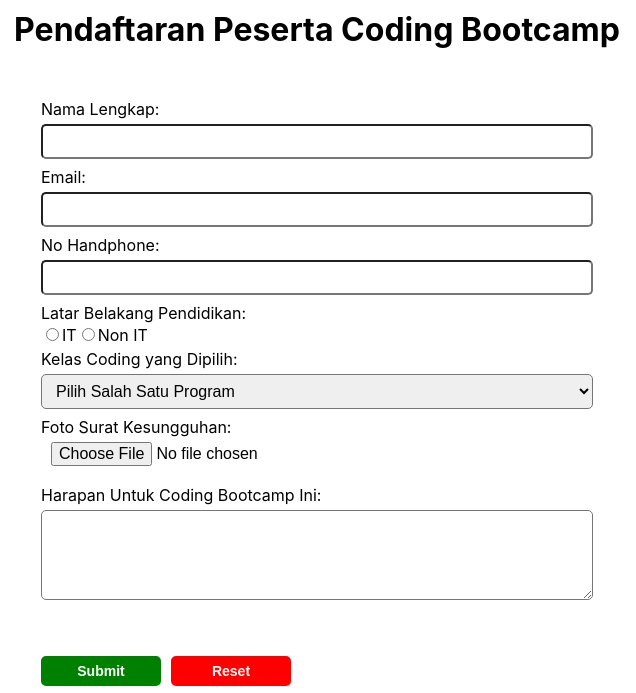
Test: user input incorrect value & show error message
Type "Yardan12" into the field labelled "Nama Lengkap:" at (317, 142), box [41, 124, 593, 159]
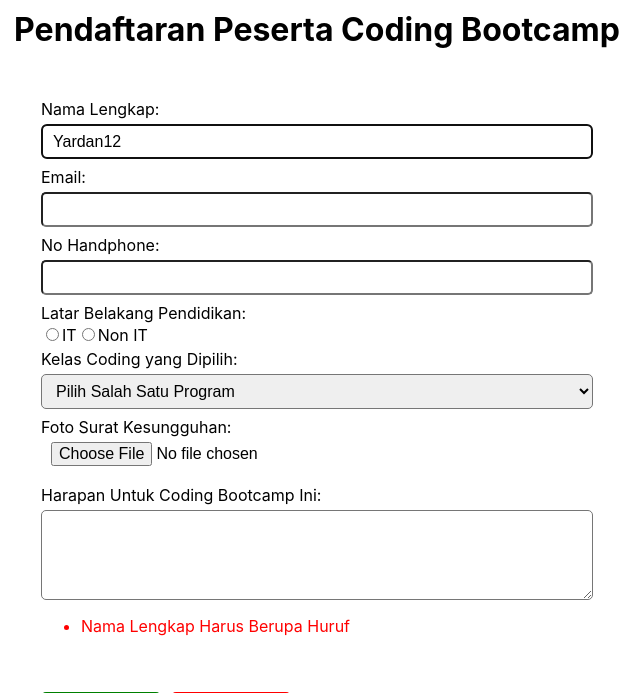
Check: the list item "Nama Lengkap Harus Berupa Huruf" is shown, box [81, 616, 350, 636]
Type "morphiezy>.@.com" into the field labelled "Email:" at (317, 210), box [41, 192, 593, 227]
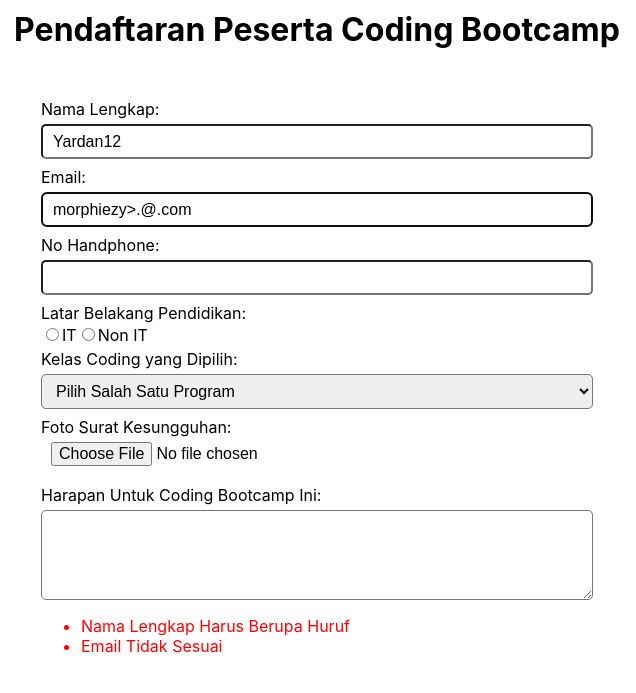
Check: the list item "Email Tidak Sesuai" is shown, box [81, 636, 222, 656]
Type "3321234567893123.0" into the number field labelled "No Handphone:" at (317, 278), box [41, 260, 593, 295]
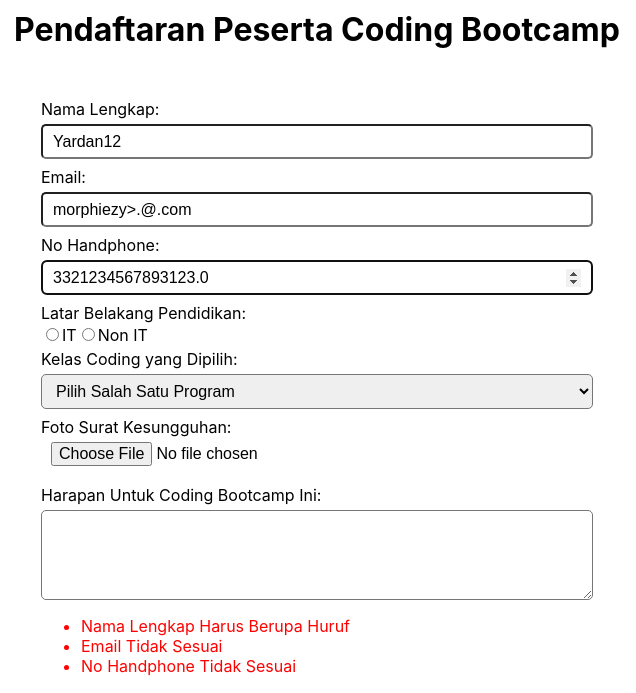
Check: the list item "No Handphone Tidak Sesuai" is shown, box [81, 656, 296, 676]
